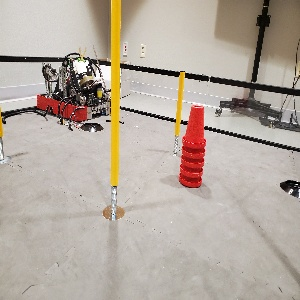Red_5: (174, 104, 208, 187)
